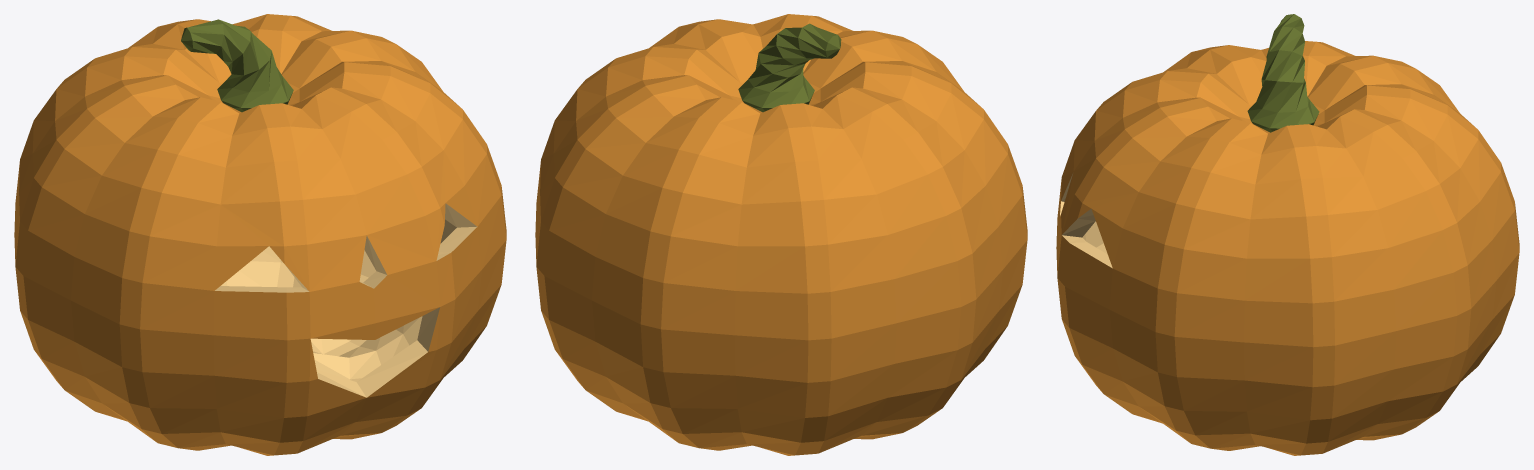
File: Pumpkin_Lantern_1.glb
3 views of the same model, side by side, from view 1: azimuth 30°, elevation 25°; view 2: azimuth 150°, elevation 25°; view 3: azimuth 270°, elevation 25° (orthographic). The views are drawn at different scales.
Size of the model in its own units: 21.39 by 18.32 by 21.11.
Materials: 1 (1 with a texture image).
